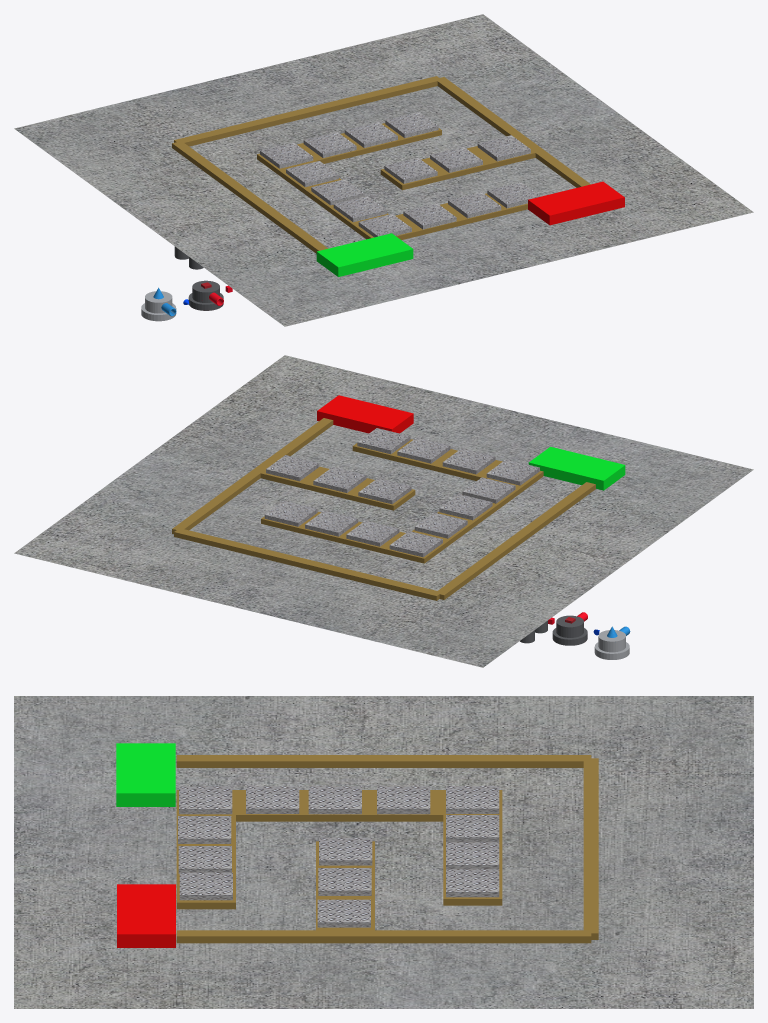
Rendered from world.gltf.
The picture shows the model from 3 angles, top to bottom: view 1: azimuth 30°, elevation 25°; view 2: azimuth 150°, elevation 25°; view 3: azimuth 270°, elevation 25°; orthographic projection. The views are drawn at different scales.
Visible parts, largest first — view 1: Floor, Wall, Cube, Cube.001, Tower2, Tower1, Base6, Base7, Base09, Base11, Base12, Base0 (+8 smaller); view 2: Floor, Wall, Cube, Cube.001, Tower2, Tower1, Base11, Base1, Base4, Base7, Base8, Base6 (+8 smaller); view 3: Floor, Wall, Cube, Cube.001, Base1, Base2, Base4, Base09, Base11, Base12, Base5, Base0 (+6 smaller).
Boxes of the visible parts, x1=… form: Floor: x1=14, y1=14, x2=753, y2=326; Wall: x1=172, y1=76, x2=590, y2=253; Cube: x1=316, y1=233, x2=413, y2=276; Cube.001: x1=528, y1=181, x2=624, y2=225; Tower2: x1=141, y1=287, x2=176, y2=321; Tower1: x1=188, y1=280, x2=223, y2=310; Base6: x1=448, y1=192, x2=501, y2=218; Base7: x1=403, y1=203, x2=456, y2=229; Base09: x1=385, y1=112, x2=438, y2=138; Base11: x1=384, y1=157, x2=437, y2=183; Base12: x1=477, y1=135, x2=530, y2=161; Base0: x1=260, y1=142, x2=313, y2=168; Floor: x1=14, y1=355, x2=753, y2=667; Wall: x1=172, y1=418, x2=595, y2=600; Cube: x1=528, y1=446, x2=625, y2=490; Cube.001: x1=317, y1=395, x2=413, y2=433; Tower2: x1=594, y1=626, x2=630, y2=659; Tower1: x1=552, y1=612, x2=587, y2=645; Base11: x1=358, y1=478, x2=411, y2=504; Base1: x1=414, y1=512, x2=467, y2=538; Base4: x1=486, y1=459, x2=539, y2=485; Base7: x1=442, y1=448, x2=495, y2=474; Base8: x1=346, y1=520, x2=399, y2=546; Base6: x1=397, y1=437, x2=450, y2=463; Floor: x1=14, y1=696, x2=753, y2=1008; Wall: x1=176, y1=755, x2=598, y2=943; Cube: x1=116, y1=743, x2=175, y2=806; Cube.001: x1=117, y1=884, x2=175, y2=947; Base1: x1=377, y1=786, x2=430, y2=814; Base2: x1=308, y1=786, x2=361, y2=814; Base4: x1=179, y1=786, x2=232, y2=814; Base09: x1=446, y1=869, x2=499, y2=897; Base11: x1=319, y1=837, x2=372, y2=865; Base12: x1=317, y1=899, x2=370, y2=927; Base5: x1=179, y1=872, x2=232, y2=900; Base0: x1=446, y1=786, x2=499, y2=813.
Bounding box in the file's own units: 25.39 × 4.93 × 25.
Materials: 11 (11 with a texture image).
